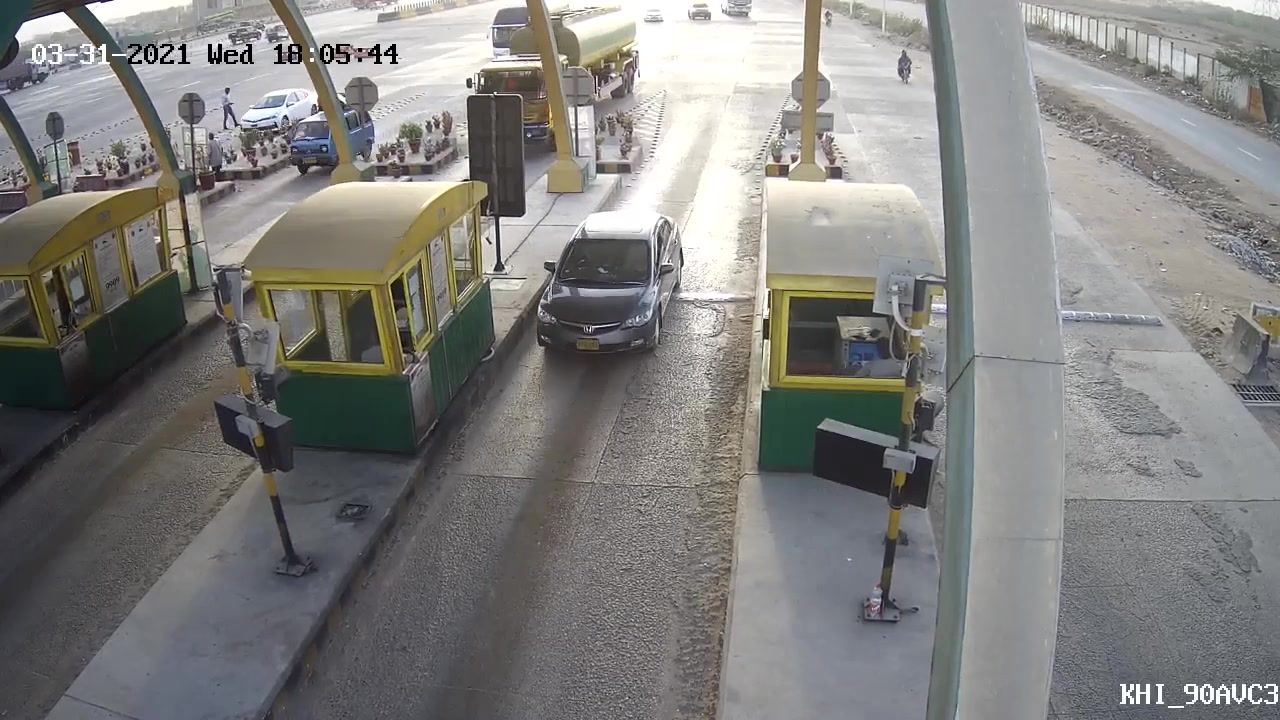F1: (524, 205, 691, 370)
